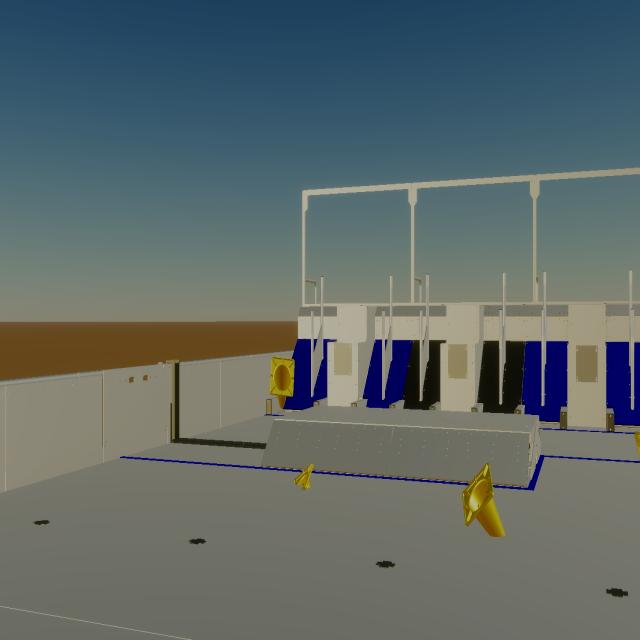frc_cone: (462, 463, 506, 537), (270, 357, 294, 409)
